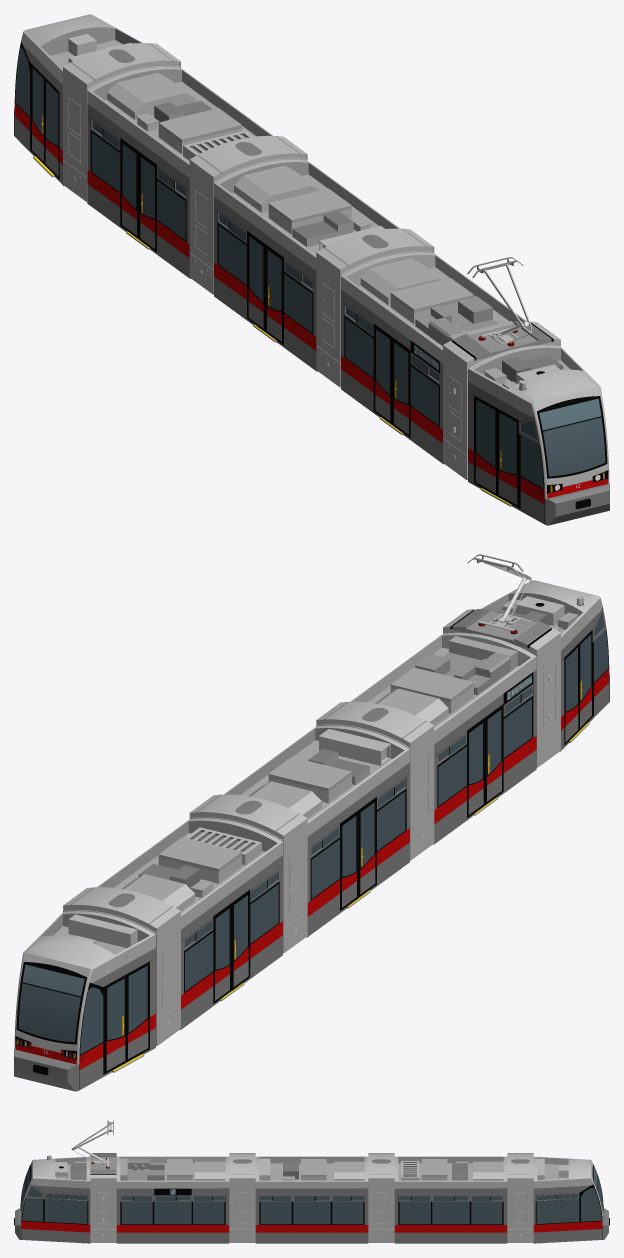
File: tram.glb
3 views of the same model, one above another, from view 1: azimuth 30°, elevation 25°; view 2: azimuth 150°, elevation 25°; view 3: azimuth 270°, elevation 25° (orthographic). The views are drawn at different scales.
Parts seen in each view (by area): view 1: Group_039, Group_035, Group_002.001, Group_003.001, Group_037, Group_023, Group_027, Group_031, Group_010; view 2: Group_037, Group_002.001, Group_035, Group_003.001, Group_039, Group_027, Group_031, Group_023, Group_010; view 3: Group_002.001, Group_035, Group_003.001, Group_039, Group_037, Layer0_001.001, Group_031, Group_027, Group_023, Group_010.
Part boxes in pixels (left/top/right/bottom): Group_039: left=468, top=345, right=609, bottom=525; Group_035: left=341, top=252, right=526, bottom=464; Group_002.001: left=214, top=159, right=399, bottom=371; Group_003.001: left=87, top=66, right=271, bottom=278; Group_037: left=14, top=14, right=142, bottom=185; Group_023: left=316, top=228, right=434, bottom=387; Group_027: left=189, top=135, right=307, bottom=294; Group_031: left=63, top=43, right=180, bottom=201; Group_010: left=443, top=321, right=560, bottom=479; Group_037: left=14, top=911, right=155, bottom=1091; Group_002.001: left=224, top=725, right=409, bottom=937; Group_035: left=351, top=632, right=536, bottom=844; Group_003.001: left=99, top=820, right=282, bottom=1030; Group_039: left=481, top=580, right=609, bottom=751; Group_027: left=189, top=794, right=307, bottom=953; Group_031: left=63, top=887, right=180, bottom=1045; Group_023: left=316, top=701, right=434, bottom=860; Group_010: left=443, top=609, right=560, bottom=767; Group_002.001: left=255, top=1156, right=368, bottom=1243; Group_035: left=116, top=1156, right=229, bottom=1243; Group_003.001: left=394, top=1156, right=507, bottom=1224; Group_039: left=14, top=1155, right=90, bottom=1243; Group_037: left=533, top=1156, right=609, bottom=1243; Layer0_001.001: left=394, top=1167, right=507, bottom=1243; Group_031: left=507, top=1153, right=533, bottom=1242; Group_027: left=368, top=1153, right=394, bottom=1242; Group_023: left=229, top=1153, right=255, bottom=1242; Group_010: left=90, top=1153, right=116, bottom=1242.
Bounding box in the file's own units: 2.49 × 4.89 × 24.23.
